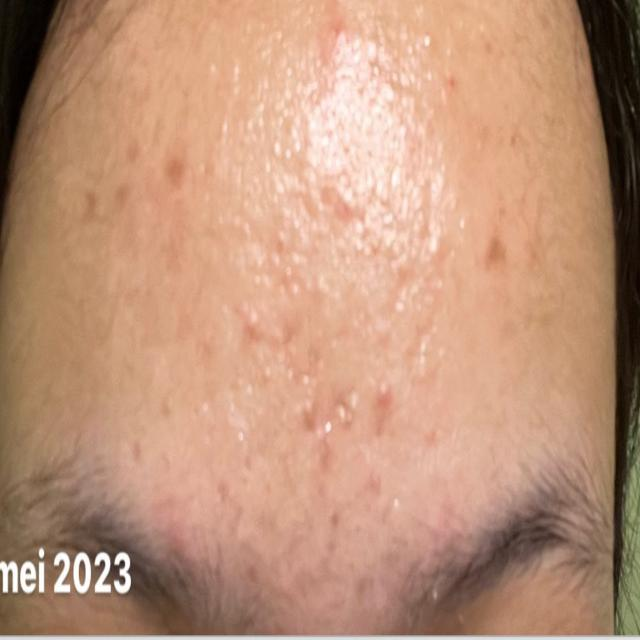fungal: (242, 11, 438, 538)
